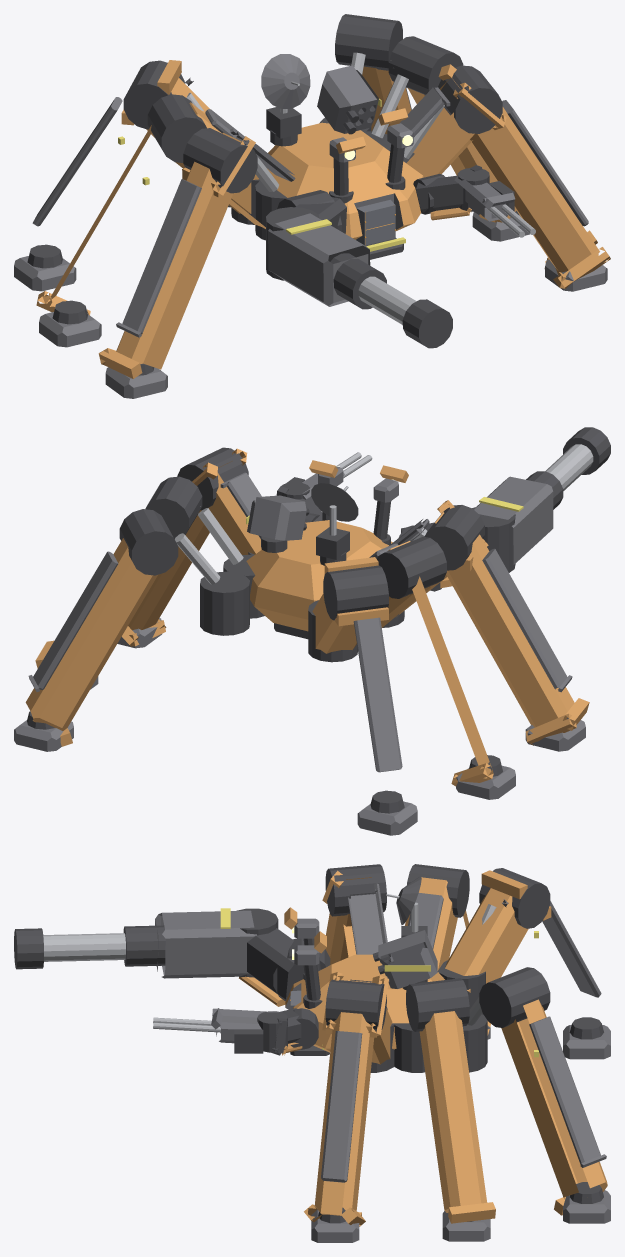
File: fiddler.glb
3 views of the same model, one above another, from view 1: azimuth 30°, elevation 25°; view 2: azimuth 150°, elevation 25°; view 3: azimuth 270°, elevation 25° (orthographic). The views are drawn at different scales.
Parts seen in each view (by area): view 1: tibia01, carapace, tibia0-1, howitzer-1_rec, tibia0-1_top, femur01, missiles1, knee21, knee0-1, knee11, knee01, knee1-1 (+34 smaller); view 2: tibia0-1, tibia21, carapace, tibia2-1_top, howitzer-1_rec, tibia1-1, knee1-1, coxa21, knee21, knee2-1, tibia0-1_top, tibia01 (+22 smaller); view 3: tibia11, tibia21, howitzer-1_rec, femur2-1, tibia01, tibia01_top, tibia21_top, carapace, knee21, upper-1, knee11, missiles1 (+31 smaller).
Boxes of the visible parts, <box> form: tibia01: <box>470,107,610,288</box>; carapace: <box>267,122,423,239</box>; tibia0-1: <box>98,161,233,378</box>; howitzer-1_rec: <box>268,213,370,306</box>; tibia0-1_top: <box>116,179,201,337</box>; femur01: <box>406,64,506,177</box>; missiles1: <box>317,65,378,134</box>; knee21: <box>335,14,402,70</box>; knee0-1: <box>183,128,257,193</box>; knee11: <box>388,36,463,94</box>; knee01: <box>438,65,502,133</box>; knee1-1: <box>147,94,206,162</box>; tibia0-1: <box>446,534,589,745</box>; tibia21: <box>25,538,157,746</box>; carapace: <box>246,520,392,631</box>; tibia2-1_top: <box>353,617,402,772</box>; howitzer-1_rec: <box>474,476,553,566</box>; tibia1-1: <box>412,576,493,786</box>; knee1-1: <box>377,537,446,598</box>; coxa21: <box>200,571,249,635</box>; knee21: <box>119,509,178,575</box>; knee2-1: <box>323,565,388,620</box>; tibia0-1_top: <box>482,548,572,692</box>; tibia01: <box>122,510,209,647</box>; tibia11: <box>419,1011,495,1223</box>; tibia21: <box>501,999,607,1215</box>; howitzer-1_rec: <box>155,910,256,978</box>; femur2-1: <box>445,870,551,992</box>; tibia01: <box>304,1012,374,1226</box>; tibia01_top: <box>321,1031,362,1182</box>; tibia21_top: <box>529,1016,606,1167</box>; carapace: <box>285,954,444,1052</box>; knee21: <box>479,967,550,1027</box>; upper-1: <box>247,928,304,999</box>; knee11: <box>406,978,469,1031</box>; missiles1: <box>372,930,437,988</box>.
Size of what is drawn, in the model's own units: 32.75 by 15.96 by 36.01.
